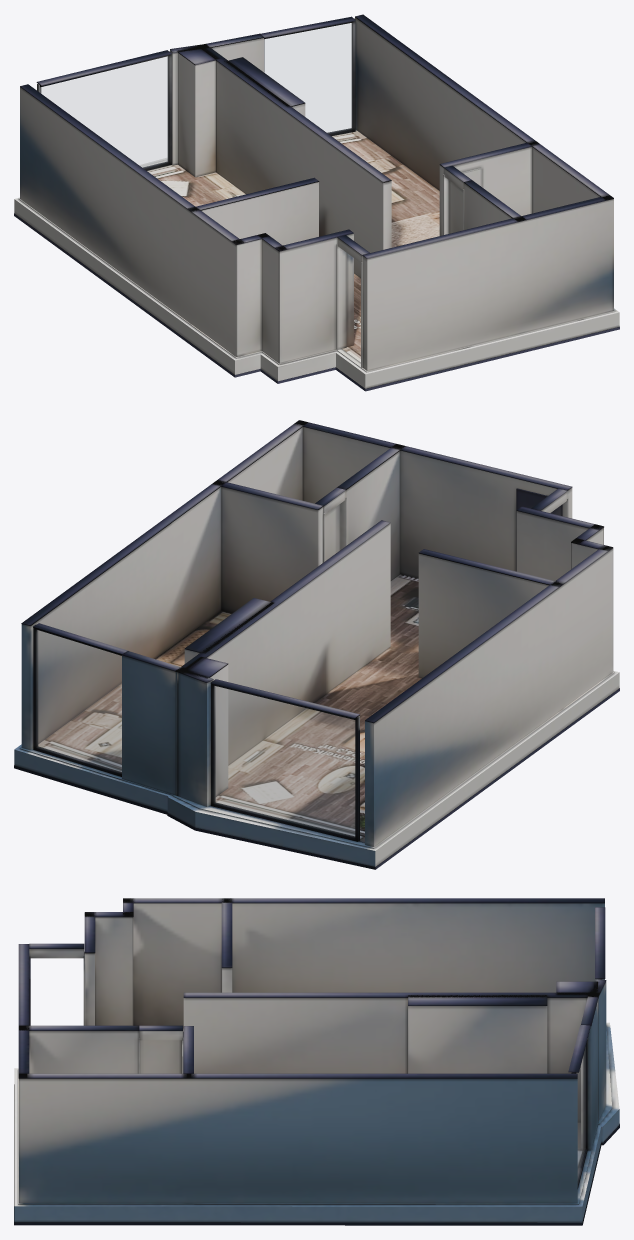
3 views of the same model, one above another, from view 1: azimuth 30°, elevation 25°; view 2: azimuth 150°, elevation 25°; view 3: azimuth 270°, elevation 25° (orthographic). The views are drawn at different scales.
Visible parts, largest first — view 1: plan, glass0_m, glass1_m; view 2: plan, glass0_m, glass1_m; view 3: plan, glass1_m.
Part boxes in pixels (left/top/right/bottom): plan: left=14, top=14, right=619, bottom=391; glass0_m: left=41, top=56, right=168, bottom=167; glass1_m: left=264, top=23, right=352, bottom=132; plan: left=14, top=420, right=619, bottom=869; glass0_m: left=215, top=686, right=354, bottom=836; glass1_m: left=37, top=630, right=121, bottom=772; plan: left=14, top=898, right=619, bottom=1225; glass1_m: left=577, top=1048, right=585, bottom=1176.
Size of the model in its own units: 7.13 by 2.62 by 9.91.
Materials: 2 (1 with a texture image).
